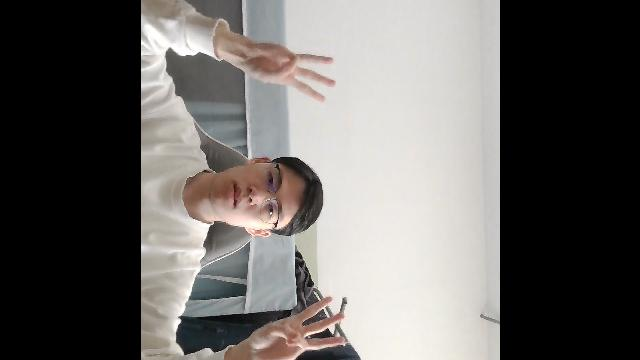three: (220, 28, 340, 106), (243, 297, 349, 360)
